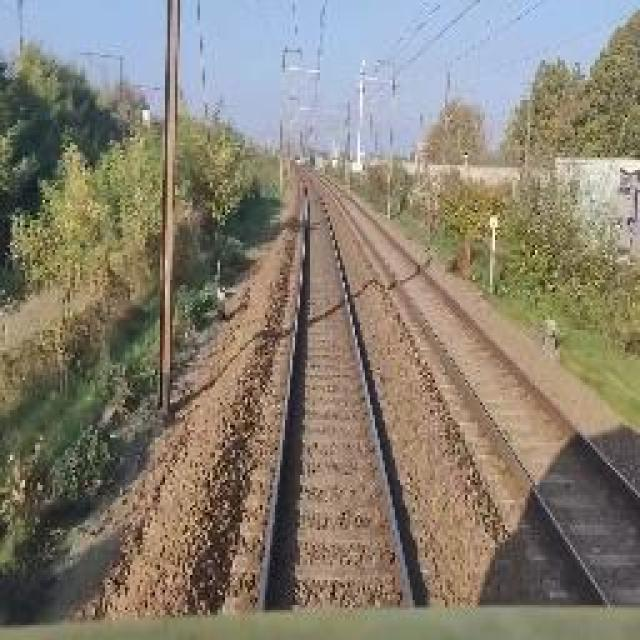rail: (229, 172, 444, 613)
